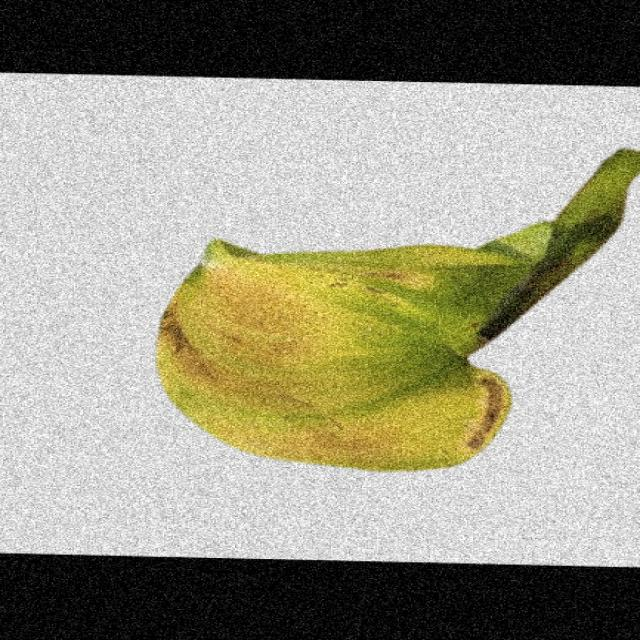daun berpenyakit kuning: (159, 150, 640, 471)
